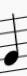G: (2, 11, 23, 73)
